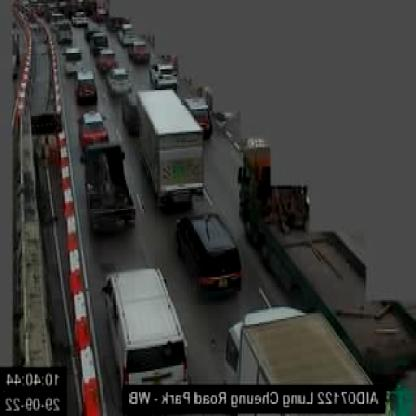Car: (102, 262, 190, 406), (174, 206, 243, 314), (183, 94, 220, 140), (76, 106, 110, 149), (104, 68, 136, 100), (148, 61, 184, 86), (84, 26, 112, 57), (64, 45, 88, 78), (129, 36, 152, 68), (77, 68, 99, 100), (98, 48, 120, 73), (120, 17, 136, 47), (57, 21, 77, 43), (72, 10, 90, 28)
Truck: (239, 128, 416, 387), (224, 309, 376, 402), (139, 83, 205, 213), (81, 135, 136, 236)
